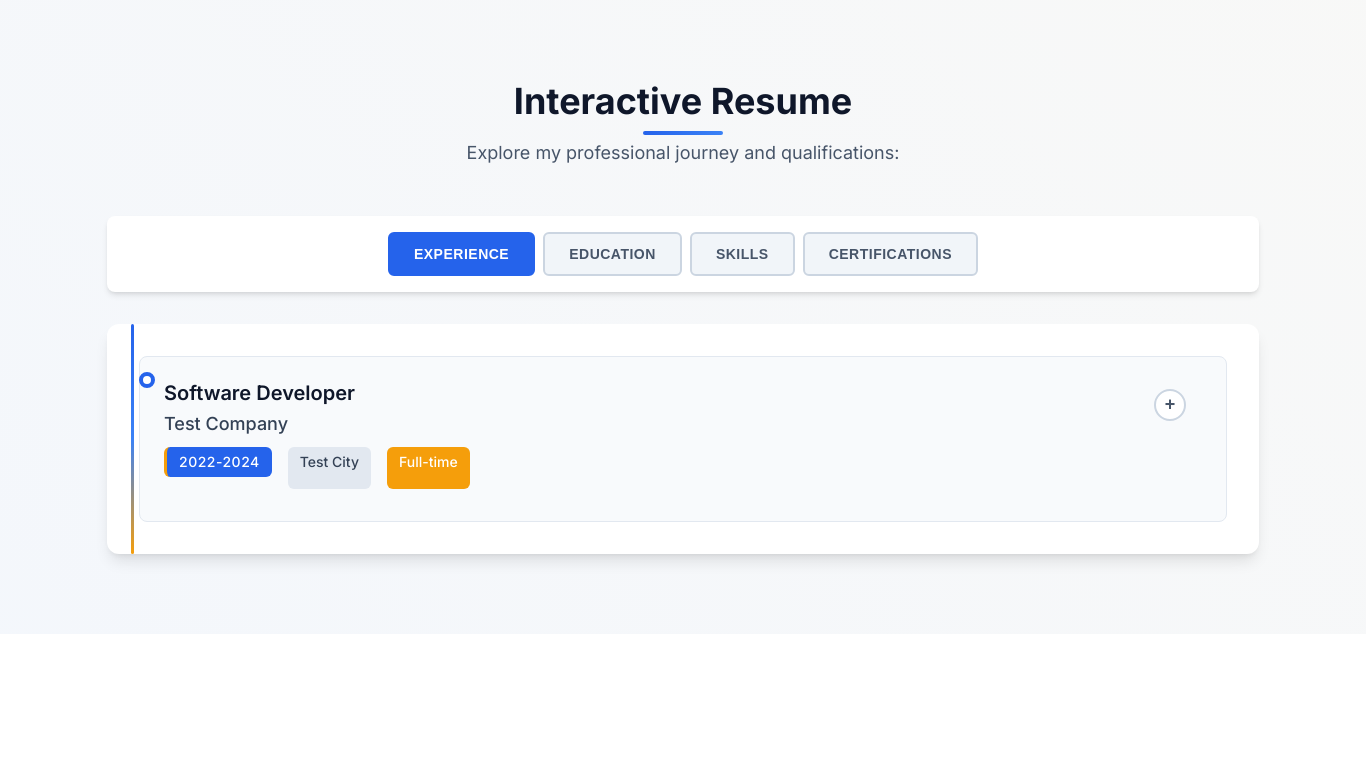
Test case: InteractiveResume Component › clicking certifications tab displays certifications content
The image size is (1366, 768).
Click the button "Certifications" at (890,254), box left=803, top=232, right=978, bottom=276
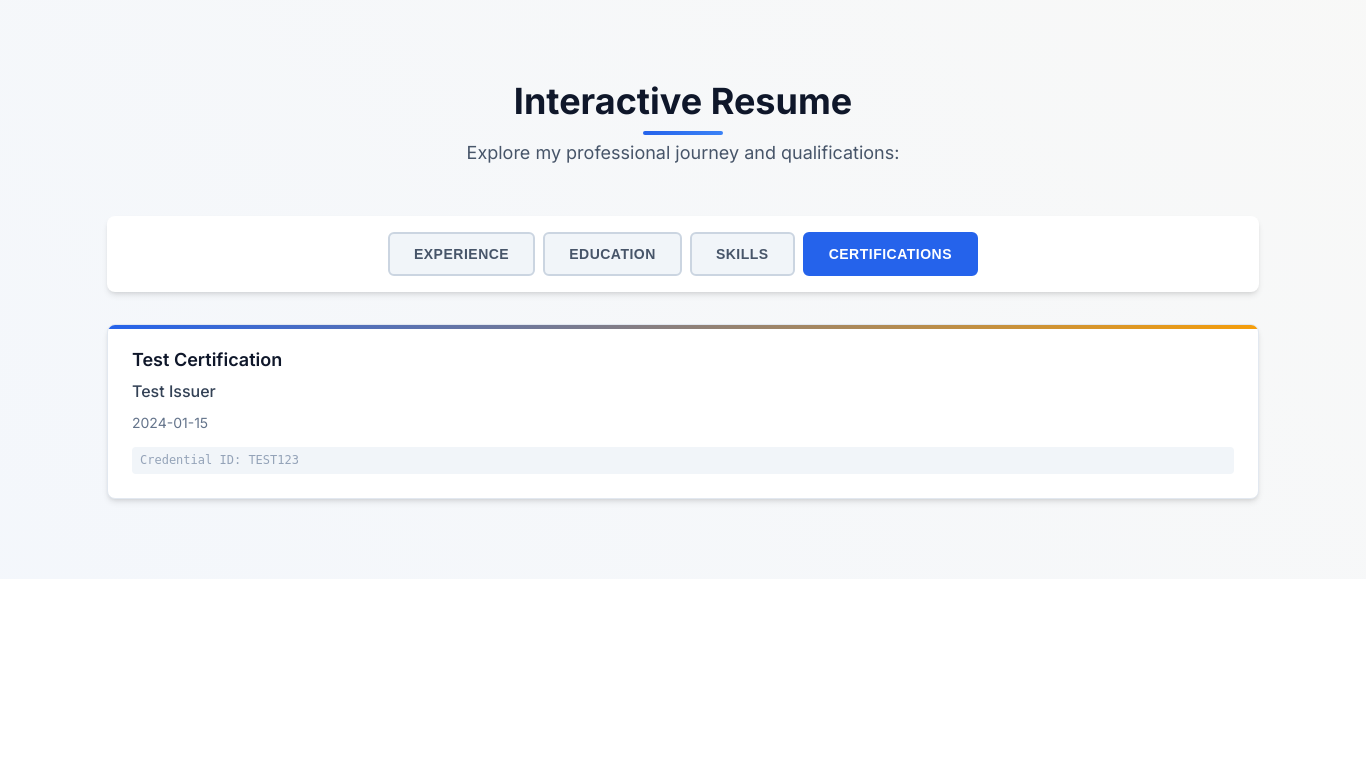
Now the heading "Test Certification" is shown, box left=132, top=349, right=282, bottom=370
Now the text "Test Issuer" is shown, box left=132, top=381, right=216, bottom=401
